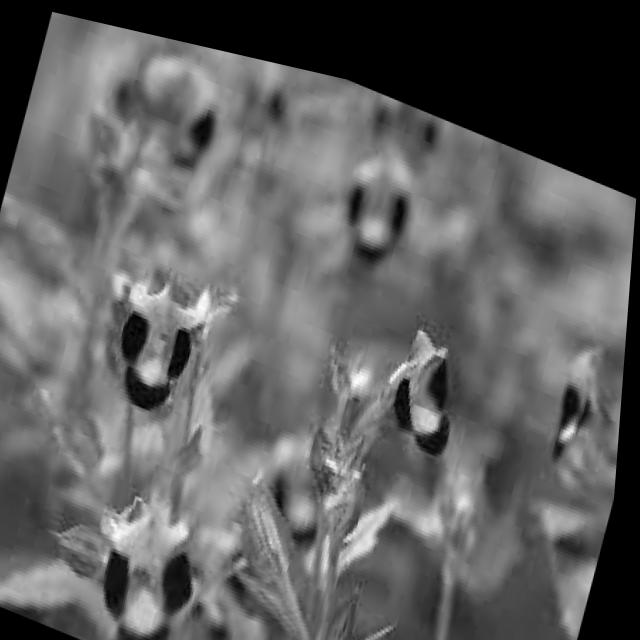Flower: (81, 463, 218, 640), (368, 287, 489, 462), (98, 254, 220, 424)
